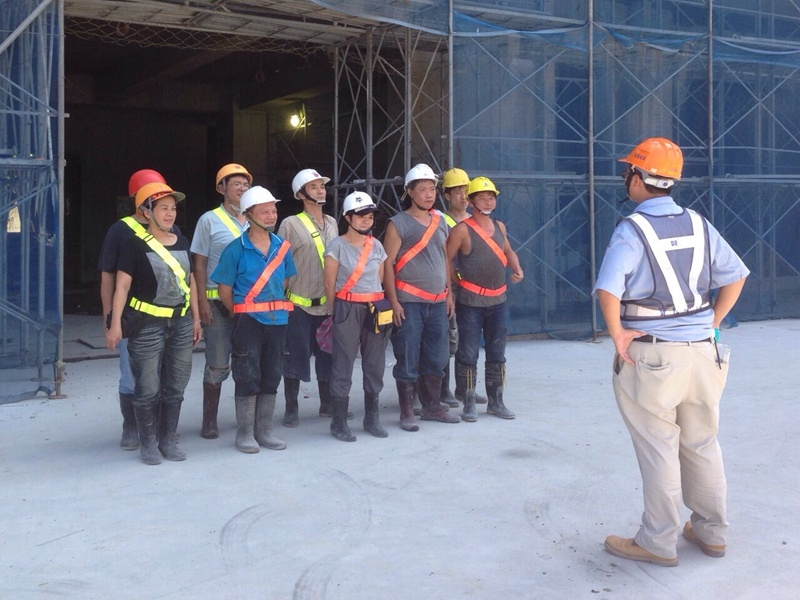white: (239, 184, 278, 232), (290, 166, 328, 211), (403, 161, 436, 212), (342, 190, 376, 236)
yellow: (618, 134, 684, 206), (137, 183, 178, 231), (214, 160, 252, 204), (467, 173, 500, 218), (441, 166, 471, 211)
